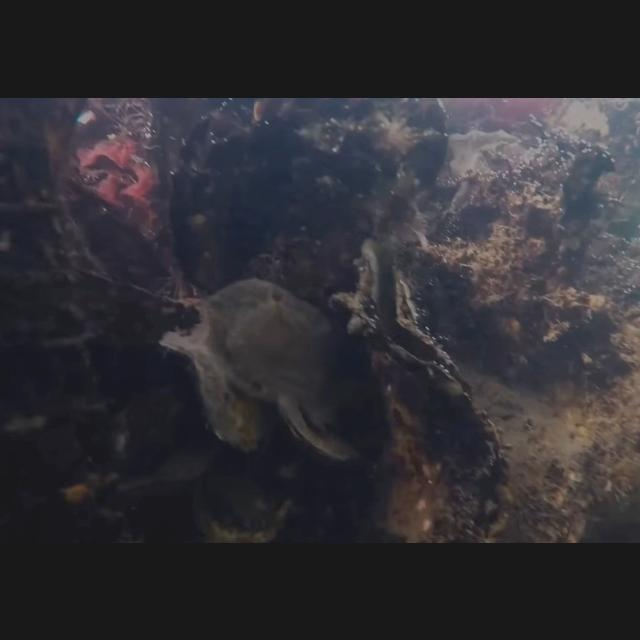Oyster-Closed: (202, 278, 376, 462)
Oyster-Open: (333, 236, 475, 402)
